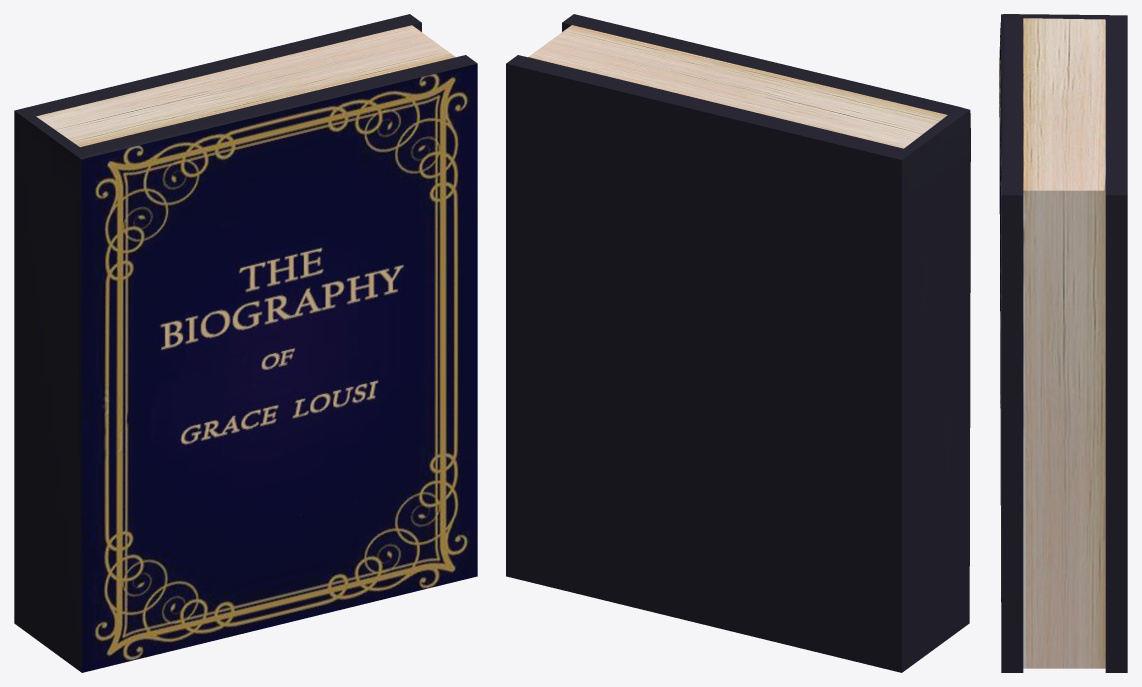
Rendered from Question 3.BiographyAnswer.fbx.
3 views of the same model, side by side, from view 1: azimuth 30°, elevation 25°; view 2: azimuth 150°, elevation 25°; view 3: azimuth 270°, elevation 25° (orthographic). The views are drawn at different scales.
Visible parts, largest first — view 1: Cube.004; view 2: Cube.004; view 3: Cube.004.
Boxes of the visible parts, box(x1,y1,x2,y2) form: Cube.004: box(14, 14, 477, 672); Cube.004: box(506, 14, 970, 672); Cube.004: box(999, 14, 1127, 672).
Size of the model in its own units: 118 by 146 by 35.39.
